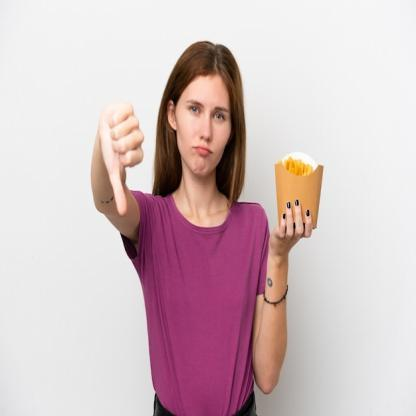thumb_down: (99, 97, 145, 218)
